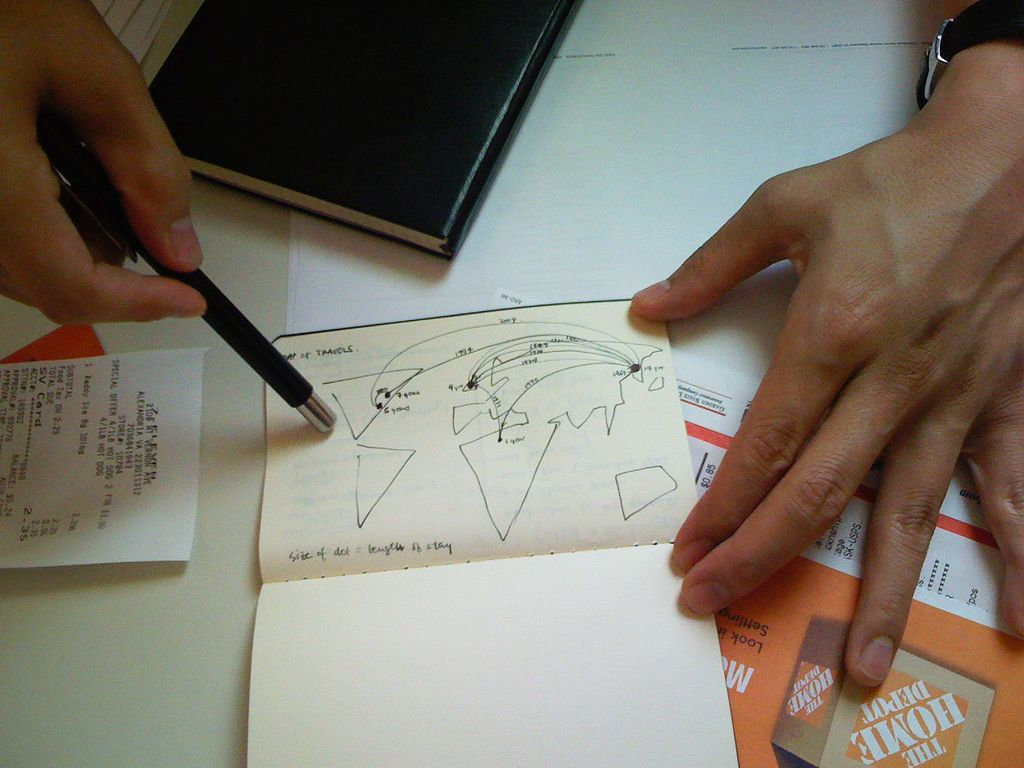Pen: (35, 113, 340, 430)
